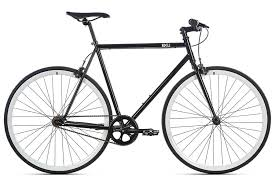bicycle: (1, 8, 275, 177)
